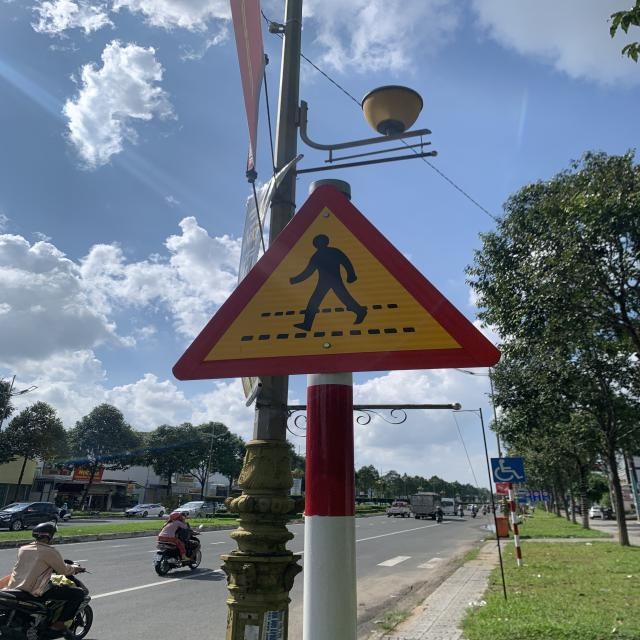Duong_Nguoi_Di_Bo_Sang_Ngang: (170, 181, 502, 382)
